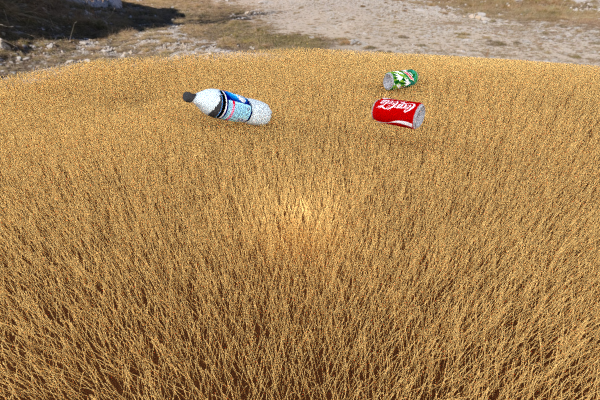Plastic Bottle: (182, 88, 272, 126), (371, 97, 425, 129), (383, 69, 418, 90)
